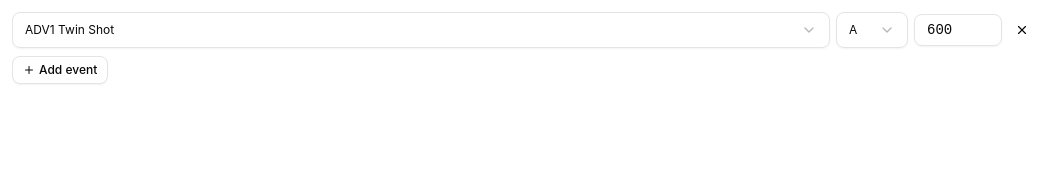
Test: CueEventsEditor › shows a refusal and goes back to what the desk holds
The image size is (1048, 172).
Click the button named "Remove ADV1 Twin Shot" at (1022, 30), box [1008, 16, 1036, 44]
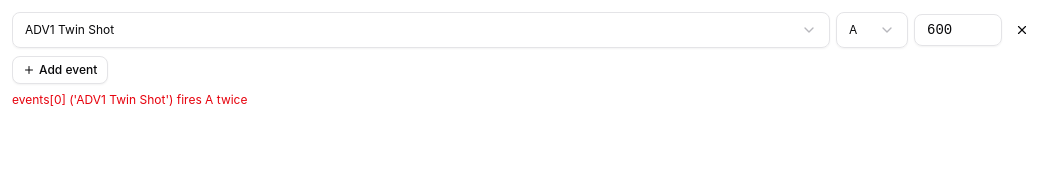
Check: the text "events[0] ('ADV1 Twin Shot') fires A twice" is shown, box [12, 92, 248, 107]
